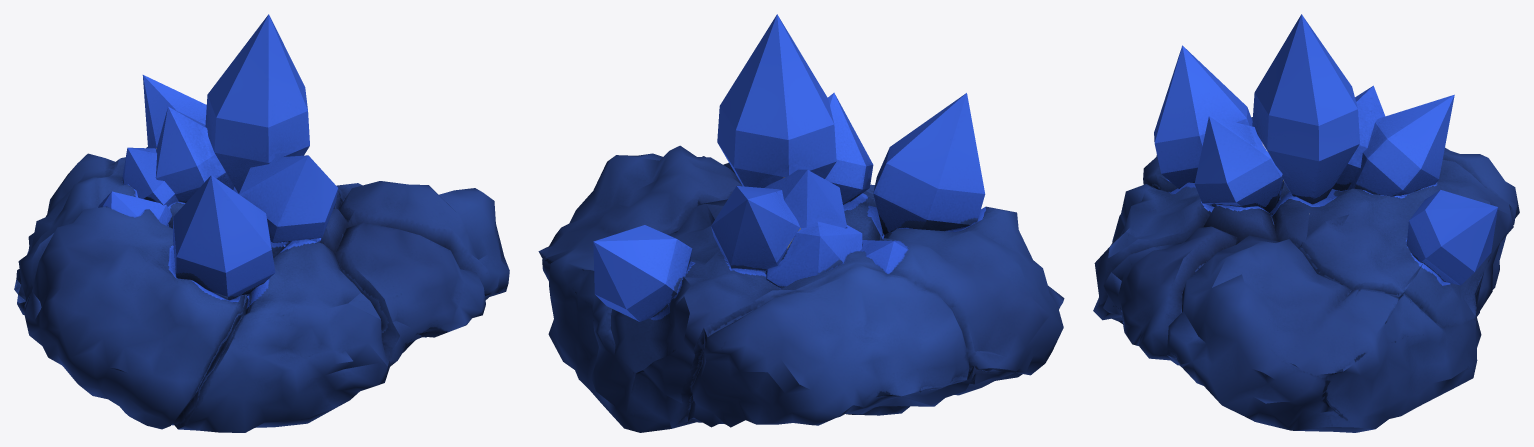
Rendered from mineral_cobalto.fbx.
3 renders of one model, left to right at view 1: azimuth 30°, elevation 25°; view 2: azimuth 150°, elevation 25°; view 3: azimuth 270°, elevation 25°, orthographic. The views are drawn at different scales.
Parts seen in each view (by area): view 1: mineral_cobalto; view 2: mineral_cobalto; view 3: mineral_cobalto.
Boxes of the visible parts, x1,y1,x2,y2 form: mineral_cobalto: [14, 14, 509, 432]; mineral_cobalto: [538, 14, 1064, 432]; mineral_cobalto: [1093, 14, 1519, 432].
Size of the model in its own units: 2.57 by 1.84 by 2.11.
1 material, 1 textured.
